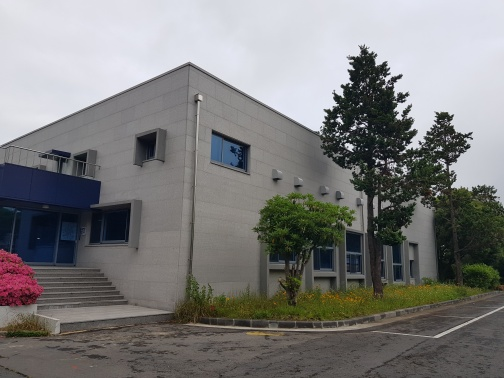College of Social Sciences: (14, 62, 457, 316)
